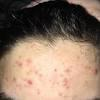Acne: (6, 44, 94, 95), (59, 75, 73, 91), (90, 64, 100, 78), (26, 77, 37, 88), (15, 60, 25, 70), (24, 55, 33, 65)
